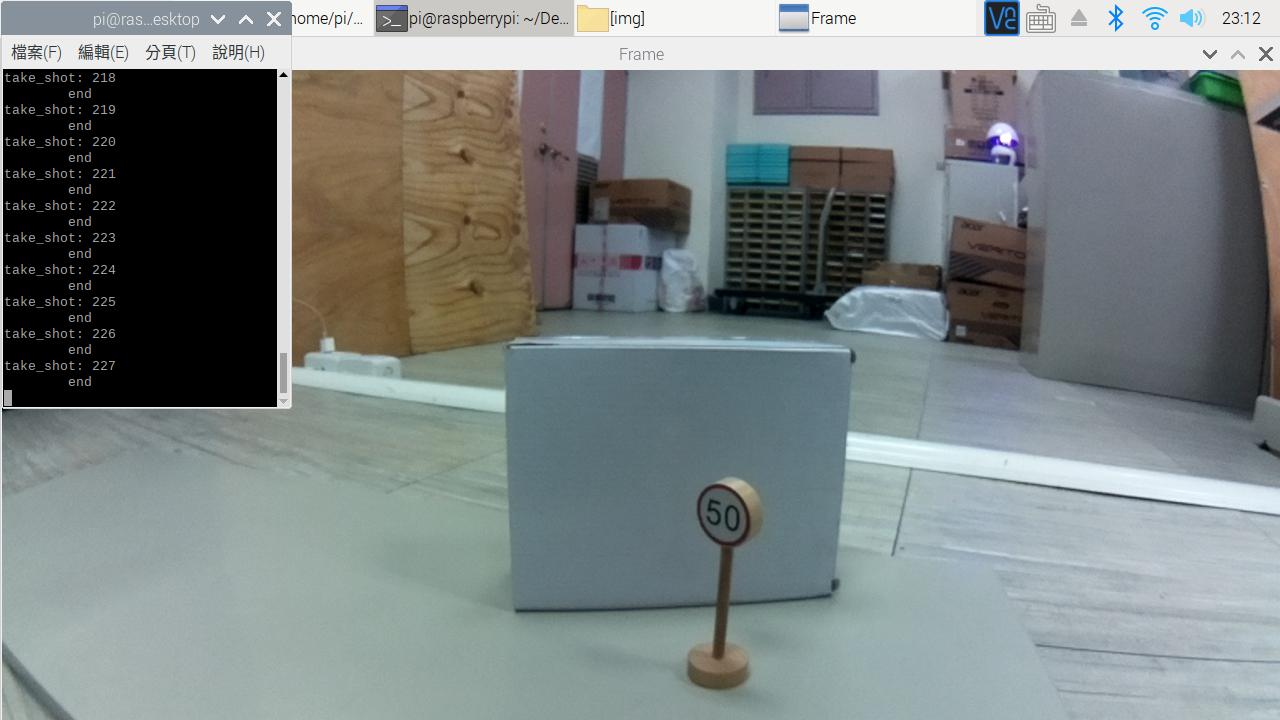Speed50: (685, 468, 777, 585)
